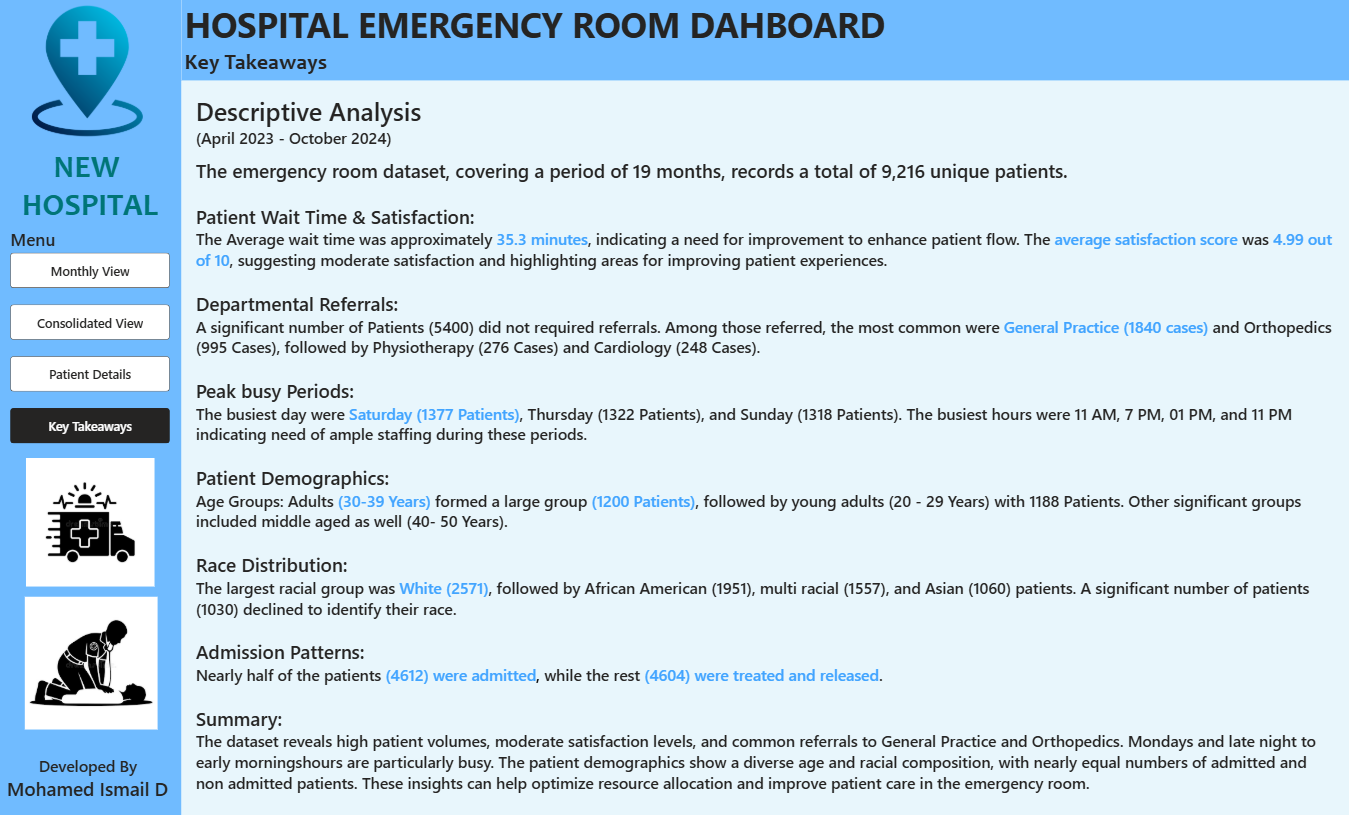

The dashboard page shown, as its layout file describes it:
{"tool":"powerbi","page":{"name":"Key Takeaways","canvas":[2300,1400],"ordinal":3},"visuals":[{"type":"shape","box":[0,0,309.8,1400],"z":0},{"type":"shape","box":[309.8,0,1990.2,140],"z":1000},{"type":"textbox","box":[310,0,1215,100],"z":2000},{"type":"textbox","box":[310,80,422.5,60],"z":3000},{"type":"image","box":[0,12.5,300,222.5],"z":5000},{"type":"textbox","box":[330,157.7,1946.2,1220.6],"z":6000},{"type":"pageNavigator","title":"Menu ","box":[19.4,388.3,271.8,368.9],"z":6001},{"type":"textbox","box":[4.9,1281.1,300.9,118.9],"z":6002},{"type":"image","box":[4.9,781.4,300.9,218.4],"z":6003},{"type":"image","box":[31.5,1016.8,249.9,225.7],"z":6004},{"type":"textbox","box":[4.9,247.5,300.9,140.7],"z":6005}]}

Visuals, with their boxes in screenshot pixels (x1, y1, x2, y2), scaled from the page's 2300x1400 canvas onto the 1349x815 screenshot:
shape: BBox(0, 0, 182, 814)
shape: BBox(182, 0, 1348, 82)
textbox: BBox(182, 0, 894, 58)
textbox: BBox(182, 47, 430, 82)
image: BBox(0, 7, 176, 137)
textbox: BBox(194, 92, 1335, 802)
"Menu " pageNavigator: BBox(11, 226, 171, 441)
textbox: BBox(3, 746, 179, 814)
image: BBox(3, 455, 179, 582)
image: BBox(18, 592, 165, 723)
textbox: BBox(3, 144, 179, 226)
